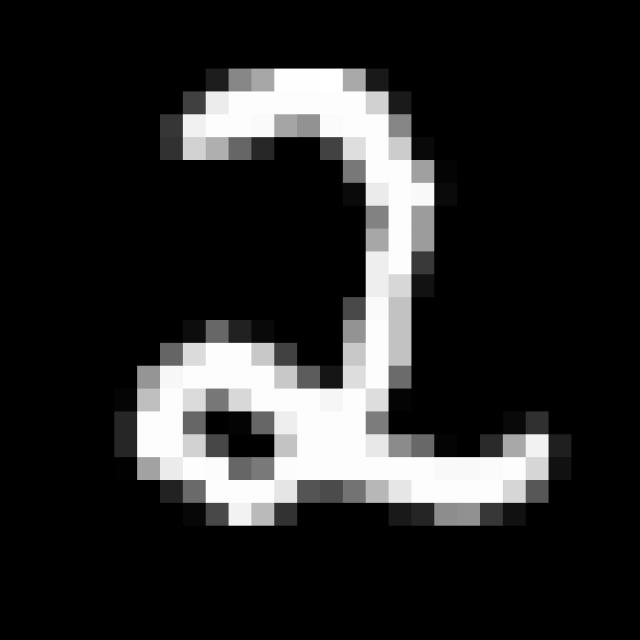two -2-: (116, 46, 576, 535)
